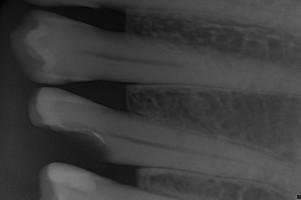Dental Caries: (37, 162, 187, 200)
